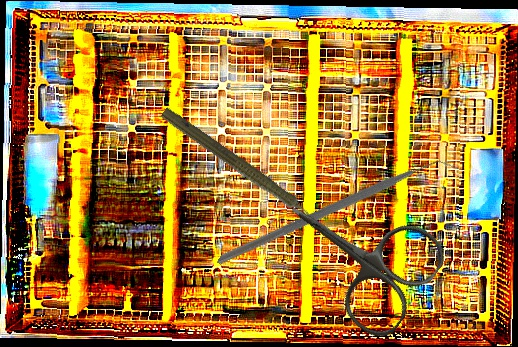Chopper: (216, 85, 459, 345)
Handpiece: (155, 104, 326, 233)
Iris Scissors: (259, 160, 453, 346)
